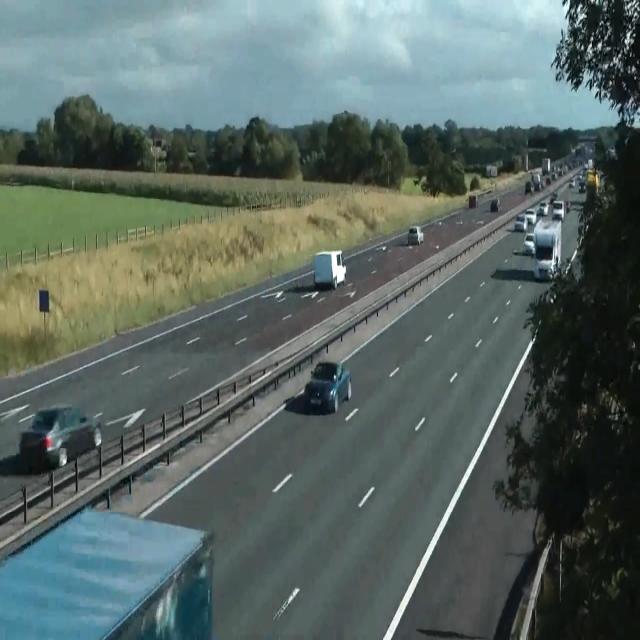bus: (304, 360, 352, 413), (490, 196, 500, 212), (375, 244, 391, 252), (565, 200, 571, 212)
car: (532, 215, 562, 282)
jeep: (19, 403, 101, 472), (408, 225, 423, 244), (514, 212, 528, 231), (522, 232, 534, 254), (552, 199, 564, 220), (524, 206, 536, 224), (524, 180, 534, 194)
minibus: (312, 250, 346, 290), (586, 169, 600, 189), (541, 157, 550, 175), (486, 164, 498, 177), (468, 194, 478, 208)
